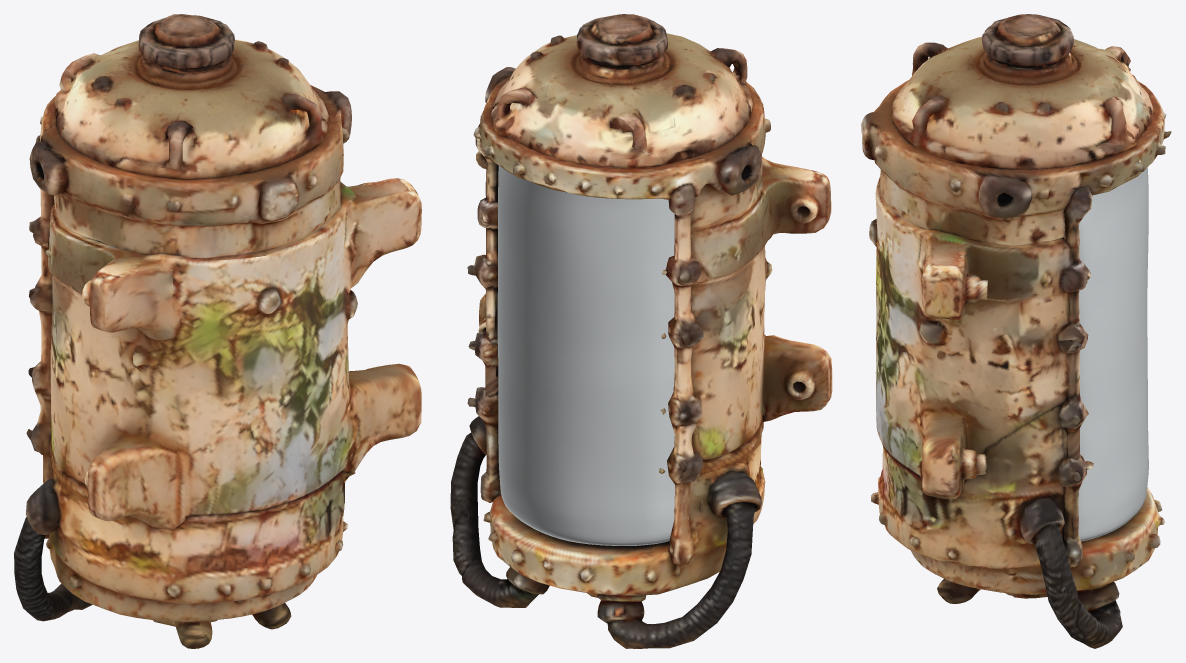
The picture shows the model from 3 angles, left to right: view 1: azimuth 30°, elevation 25°; view 2: azimuth 150°, elevation 25°; view 3: azimuth 270°, elevation 25°; orthographic projection. The views are drawn at different scales.
Visible parts, largest first — view 1: Tank_root.0, Tank_root.2.3, Tank_root.1.2, Tank_root.2.1, Tank_root.2.5, Tank_root.1.1, Tank_root.2.4; view 2: Tank_root.1.0, Tank_root.0, Tank_root.1.2, Tank_root.2.3, Tank_root.2.1, Tank_root.2.4, Tank_root.2.5, Tank_root.2.0.1, Tank_root.1.1, Tank_root.2.0.4, Tank_root.2.0.3, Tank_root.2.0.7 (+1 smaller); view 3: Tank_root.0, Tank_root.1.2, Tank_root.2.3, Tank_root.1.0, Tank_root.2.1, Tank_root.2.0.1, Tank_root.1.1, Tank_root.2.0.4, Tank_root.2.0.6, Tank_root.2.0.5, Tank_root.2.0.3, Tank_root.2.0.7.
Part boxes in pixels (box(x1,y1,x2,y2)): Tank_root.0: box(45, 178, 421, 529); Tank_root.2.3: box(46, 437, 355, 648); Tank_root.1.2: box(55, 39, 329, 179); Tank_root.2.1: box(29, 85, 351, 258); Tank_root.2.5: box(14, 478, 92, 621); Tank_root.1.1: box(138, 14, 234, 73); Tank_root.2.4: box(26, 135, 54, 538); Tank_root.1.0: box(497, 165, 674, 545); Tank_root.0: box(476, 151, 832, 460); Tank_root.1.2: box(491, 33, 753, 167); Tank_root.2.3: box(483, 417, 765, 595); Tank_root.2.1: box(473, 67, 770, 227); Tank_root.2.4: box(659, 183, 703, 565); Tank_root.2.5: box(597, 470, 761, 648); Tank_root.2.0.1: box(450, 416, 549, 607); Tank_root.1.1: box(576, 14, 667, 69); Tank_root.2.0.4: box(468, 330, 500, 502); Tank_root.2.0.3: box(452, 507, 477, 575); Tank_root.2.0.7: box(485, 162, 498, 320); Tank_root.0: box(869, 176, 1091, 499); Tank_root.1.2: box(892, 36, 1153, 169); Tank_root.2.3: box(871, 406, 1165, 603); Tank_root.1.0: box(1078, 167, 1148, 541); Tank_root.2.1: box(861, 80, 1171, 245); Tank_root.2.0.1: box(1020, 497, 1122, 648); Tank_root.1.1: box(981, 14, 1073, 68); Tank_root.2.0.4: box(1058, 394, 1088, 567); Tank_root.2.0.6: box(1064, 186, 1092, 232); Tank_root.2.0.5: box(1056, 322, 1088, 353); Tank_root.2.0.3: box(1076, 599, 1105, 644); Tank_root.2.0.7: box(1063, 224, 1079, 398).
Size of the model in its own units: 0.4198 by 0.3432 by 0.7.
